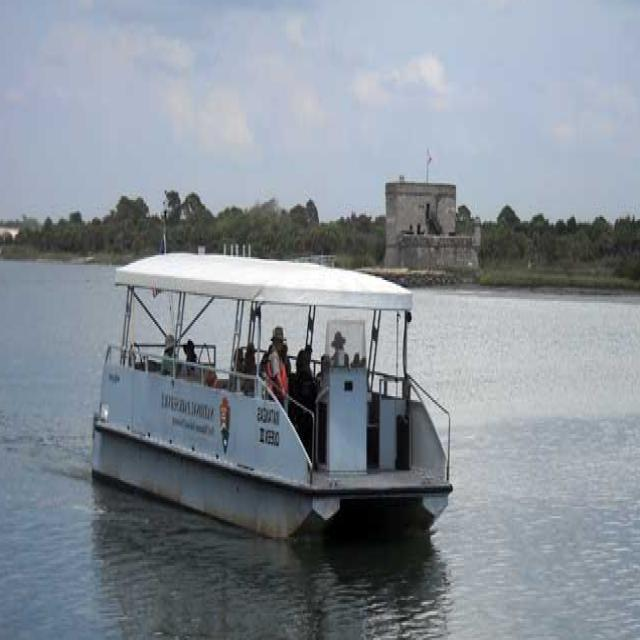houseboat: (85, 219, 469, 548)
